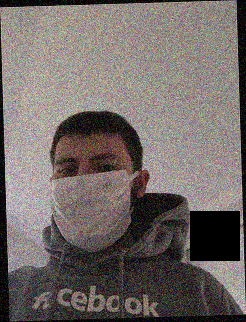with_mask: (51, 147, 136, 253)
